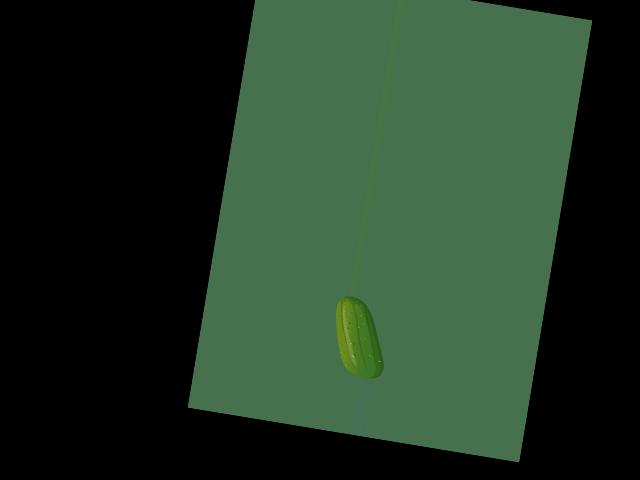cucumber: (326, 294, 394, 380)
